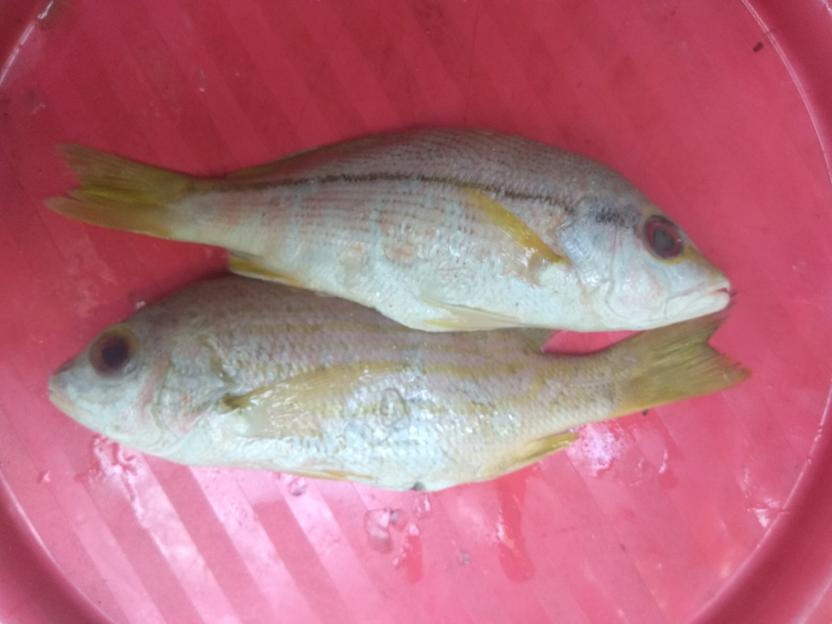Fish head: (48, 291, 224, 455), (559, 185, 733, 332)
Fish tail: (39, 136, 210, 246), (609, 308, 758, 420)
